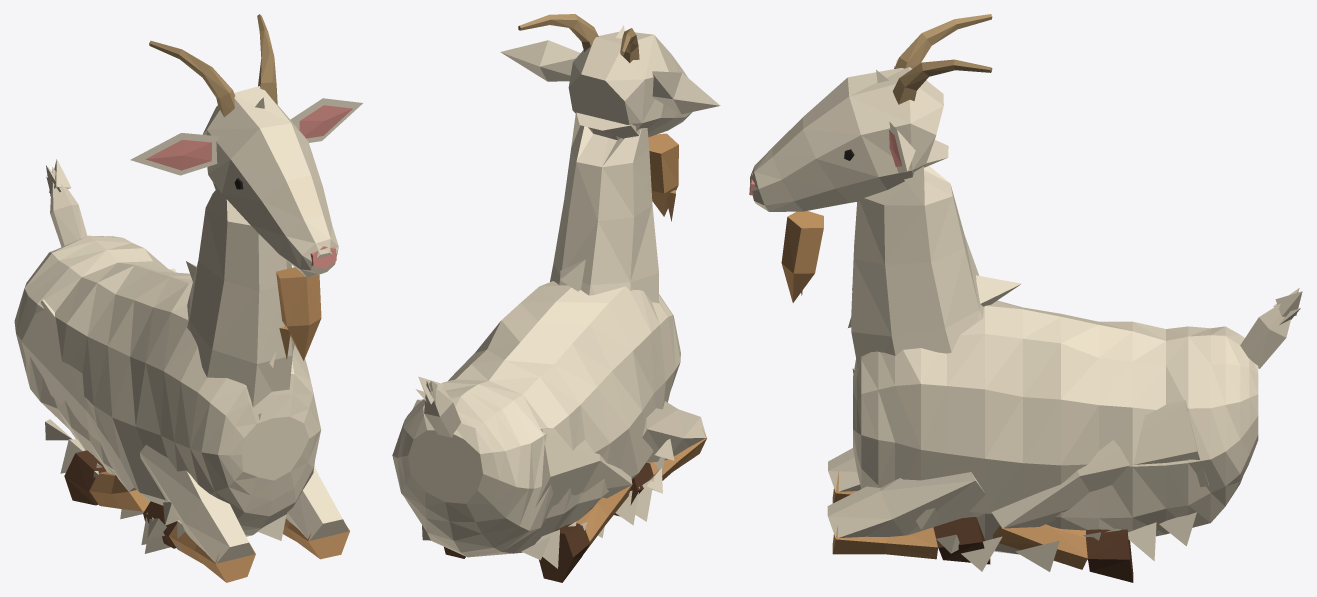
File: goat-rest.glb
3 renders of one model, left to right at view 1: azimuth 30°, elevation 25°; view 2: azimuth 150°, elevation 25°; view 3: azimuth 270°, elevation 25°, orthographic. The views are drawn at different scales.
Parts seen in each view (by area): view 1: body, neck, head, leg_front_R_upper, leg_hind_R_upper, beard, leg_front_L_upper, tail, leg_front_R_lower, horn_R, leg_hind_R_lower, leg_hind_R_hoof (+7 smaller); view 2: body, neck, head, leg_hind_R_upper, leg_front_R_upper, beard, ear_L, ear_R, leg_hind_R_hoof, tail, leg_hind_R_lower, horn_L (+3 smaller); view 3: body, neck, head, leg_hind_L_upper, leg_front_L_upper, beard, leg_hind_L_lower, tail, leg_front_L_lower, leg_hind_L_hoof, horn_L, leg_front_L_hoof (+2 smaller).
Part boxes in pixels (box(x1,y1,x2,y2)): body: box(14, 235, 321, 553); neck: box(186, 183, 294, 407); head: box(203, 86, 338, 277); leg_front_R_upper: box(140, 445, 254, 563); leg_hind_R_upper: box(21, 299, 136, 491); beard: box(276, 267, 321, 360); leg_front_L_upper: box(286, 466, 348, 540); tail: box(46, 159, 87, 247); leg_front_R_lower: box(169, 523, 255, 582); horn_R: box(149, 40, 235, 117); leg_hind_R_lower: box(89, 471, 149, 511); leg_hind_R_hoof: box(64, 450, 106, 505); body: box(392, 281, 680, 568); neck: box(550, 112, 658, 303); head: box(568, 25, 692, 140); leg_hind_R_upper: box(535, 428, 632, 507); leg_front_R_upper: box(642, 401, 706, 462); beard: box(648, 133, 678, 221); ear_L: box(500, 40, 580, 81); ear_R: box(652, 71, 720, 114); leg_hind_R_hoof: box(539, 523, 589, 582); tail: box(415, 376, 461, 437); leg_hind_R_lower: box(576, 485, 631, 552); horn_L: box(518, 14, 598, 51); body: box(852, 300, 1258, 571); neck: box(848, 140, 1021, 368); head: box(750, 67, 943, 211); leg_hind_L_upper: box(991, 400, 1209, 528); leg_front_L_upper: box(827, 472, 985, 538); beard: box(781, 211, 823, 302); leg_hind_L_lower: box(993, 524, 1087, 569); tail: box(1240, 288, 1302, 368); leg_front_L_lower: box(832, 526, 937, 559); leg_hind_L_hoof: box(1086, 529, 1133, 582); horn_L: box(892, 59, 992, 104); leg_front_L_hoof: box(933, 517, 990, 564).
Size of the model in its own units: 0.45 by 0.9413 by 0.9194.
